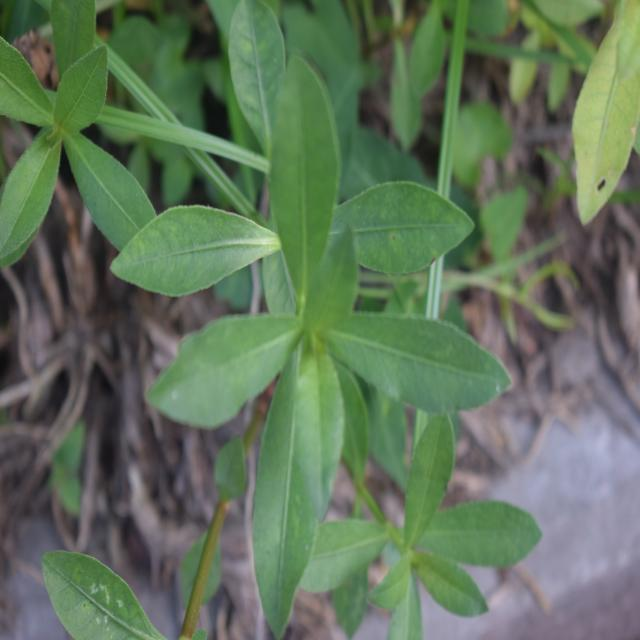Alligatorweed: (133, 92, 474, 562), (0, 35, 175, 316)
